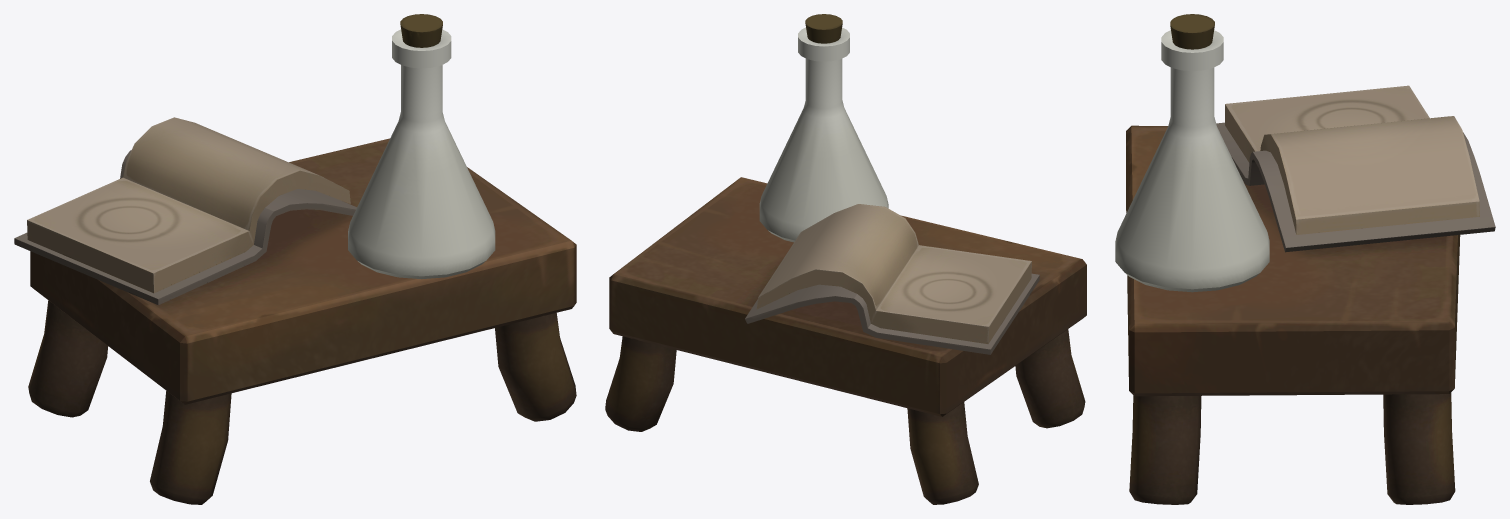
The model's file is witchtable.fbx.
3 renders of one model, left to right at view 1: azimuth 30°, elevation 25°; view 2: azimuth 150°, elevation 25°; view 3: azimuth 270°, elevation 25°, orthographic. The views are drawn at different scales.
Visible parts, largest first — view 1: table, flask; view 2: table, flask; view 3: table, flask.
Boxes of the visible parts, <box> form: table: <box>14,14,576,504</box>; flask: <box>348,29,495,279</box>; table: <box>605,14,1086,504</box>; flask: <box>759,27,888,242</box>; table: <box>1126,14,1495,504</box>; flask: <box>1115,30,1269,292</box>.
Bounding box in the file's own units: 115 × 103 × 82.56.
